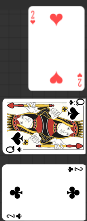2C: (66, 166, 84, 174)
2H: (76, 72, 83, 88), (29, 10, 36, 26)
